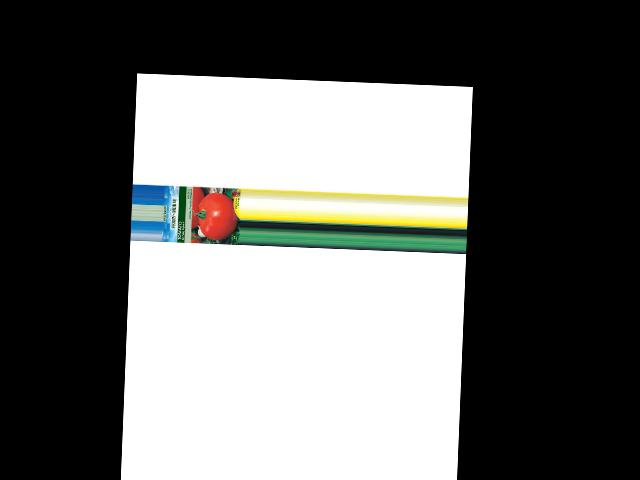tomato: (197, 192, 239, 240)
